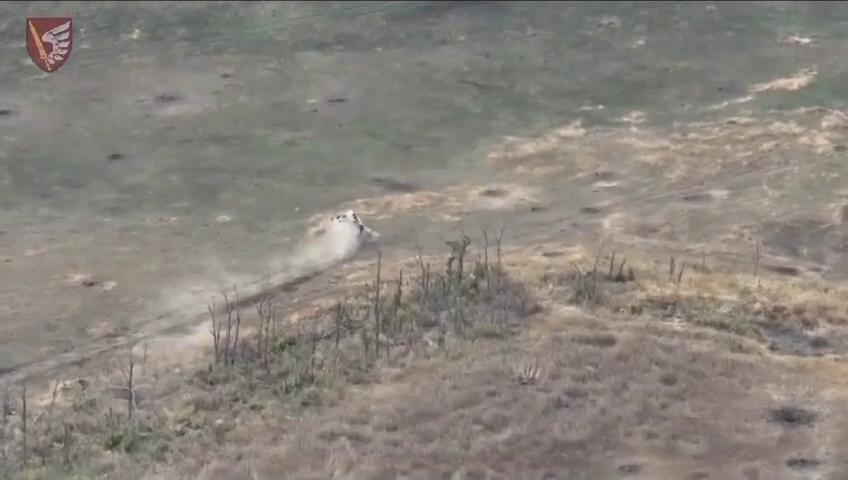tank: (330, 209, 367, 248)
